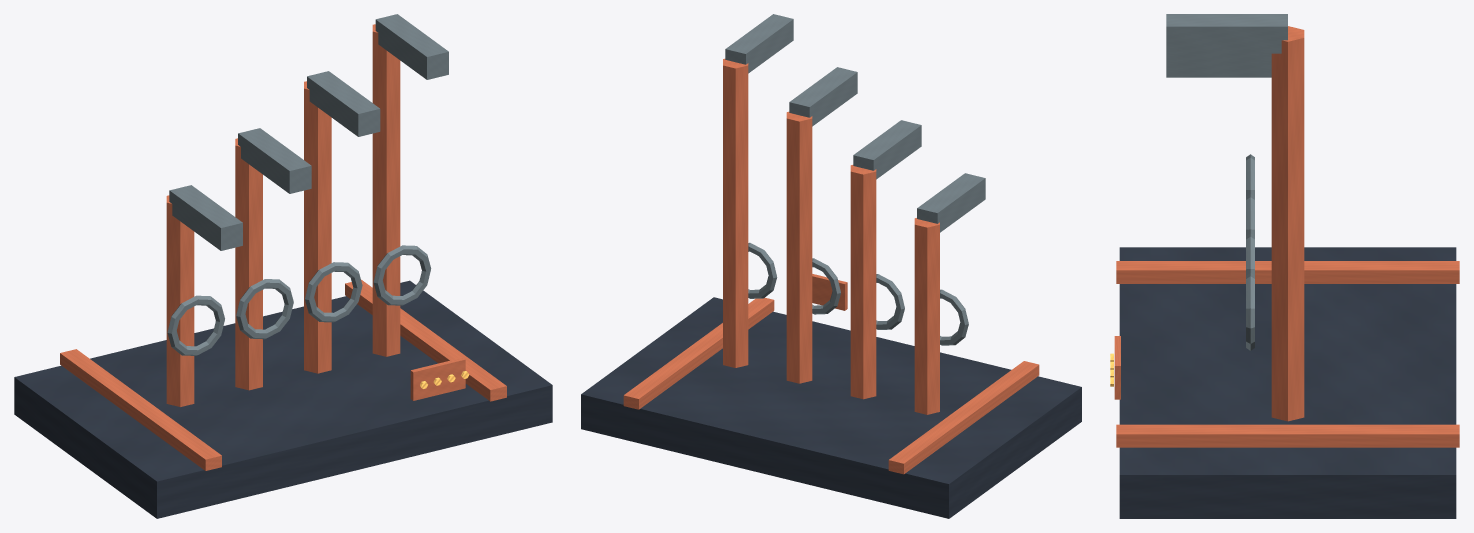
The model's file is atlas100-s030-a03.glb.
3 views of the same model, side by side, from view 1: azimuth 30°, elevation 25°; view 2: azimuth 150°, elevation 25°; view 3: azimuth 270°, elevation 25° (orthographic). The views are drawn at different scales.
Visible parts, largest first — view 1: atlas100-s030-a03:part-000, atlas100-s030-a03:part-012, atlas100-s030-a03:part-009, atlas100-s030-a03:part-006, atlas100-s030-a03:part-003, atlas100-s030-a03:part-001, atlas100-s030-a03:part-002, atlas100-s030-a03:part-011, atlas100-s030-a03:part-008, atlas100-s030-a03:part-014, atlas100-s030-a03:part-005, atlas100-s030-a03:part-015 (+4 smaller); view 2: atlas100-s030-a03:part-000, atlas100-s030-a03:part-012, atlas100-s030-a03:part-009, atlas100-s030-a03:part-006, atlas100-s030-a03:part-003, atlas100-s030-a03:part-001, atlas100-s030-a03:part-002, atlas100-s030-a03:part-005, atlas100-s030-a03:part-008, atlas100-s030-a03:part-011, atlas100-s030-a03:part-014, atlas100-s030-a03:part-015 (+4 smaller); view 3: atlas100-s030-a03:part-000, atlas100-s030-a03:part-012, atlas100-s030-a03:part-002, atlas100-s030-a03:part-001, atlas100-s030-a03:part-014, atlas100-s030-a03:part-005, atlas100-s030-a03:part-008, atlas100-s030-a03:part-011, atlas100-s030-a03:part-013, atlas100-s030-a03:part-015.
Boxes of the visible parts, <box> form: atlas100-s030-a03:part-000: <box>14,280,552,518</box>; atlas100-s030-a03:part-012: <box>372,24,400,356</box>; atlas100-s030-a03:part-009: <box>304,81,331,373</box>; atlas100-s030-a03:part-006: <box>235,138,262,390</box>; atlas100-s030-a03:part-003: <box>166,195,194,406</box>; atlas100-s030-a03:part-001: <box>60,349,221,470</box>; atlas100-s030-a03:part-002: <box>345,279,506,401</box>; atlas100-s030-a03:part-011: <box>307,71,380,136</box>; atlas100-s030-a03:part-008: <box>238,128,311,193</box>; atlas100-s030-a03:part-014: <box>375,14,448,79</box>; atlas100-s030-a03:part-005: <box>169,185,242,250</box>; atlas100-s030-a03:part-015: <box>410,357,465,400</box>; atlas100-s030-a03:part-000: <box>581,297,1081,518</box>; atlas100-s030-a03:part-012: <box>723,58,748,367</box>; atlas100-s030-a03:part-009: <box>786,111,812,383</box>; atlas100-s030-a03:part-006: <box>850,165,876,399</box>; atlas100-s030-a03:part-003: <box>914,218,939,414</box>; atlas100-s030-a03:part-001: <box>888,361,1039,474</box>; atlas100-s030-a03:part-002: <box>623,297,774,409</box>; atlas100-s030-a03:part-005: <box>917,173,985,232</box>; atlas100-s030-a03:part-008: <box>853,120,921,179</box>; atlas100-s030-a03:part-011: <box>789,67,857,126</box>; atlas100-s030-a03:part-014: <box>725,14,793,73</box>; atlas100-s030-a03:part-015: <box>812,274,847,310</box>; atlas100-s030-a03:part-000: <box>1119,247,1456,518</box>; atlas100-s030-a03:part-012: <box>1271,26,1304,421</box>; atlas100-s030-a03:part-002: <box>1116,424,1459,447</box>; atlas100-s030-a03:part-001: <box>1116,261,1459,283</box>; atlas100-s030-a03:part-014: <box>1166,14,1287,53</box>; atlas100-s030-a03:part-005: <box>1166,69,1271,77</box>; atlas100-s030-a03:part-008: <box>1166,61,1271,69</box>; atlas100-s030-a03:part-011: <box>1166,53,1271,61</box>; atlas100-s030-a03:part-013: <box>1246,273,1254,350</box>; atlas100-s030-a03:part-015: <box>1114,336,1120,399</box>.
Size of the model in its own units: 2.88 by 2.62 by 1.87.
Materials: 4 (4 with a texture image).
